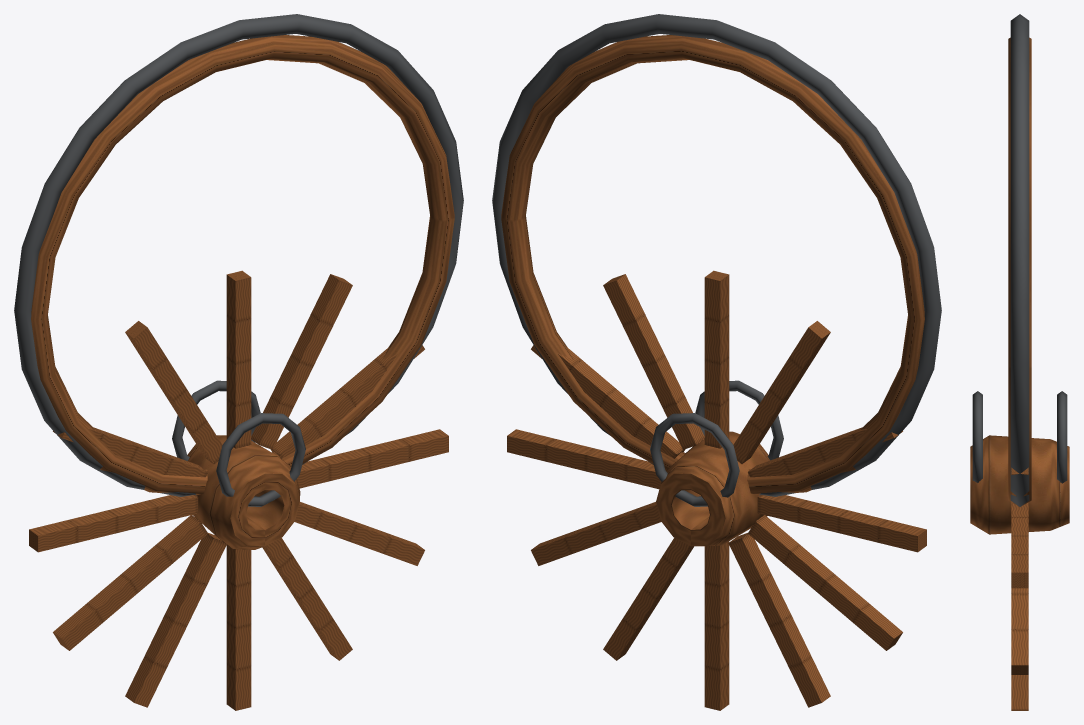
File: wheel.glb
The picture shows the model from 3 angles, left to right: view 1: azimuth 30°, elevation 25°; view 2: azimuth 150°, elevation 25°; view 3: azimuth 270°, elevation 25°; orthographic projection. The views are drawn at different scales.
Parts seen in each view (by area): view 1: wagon-wheel; view 2: wagon-wheel; view 3: wagon-wheel.
Boxes of the visible parts, <box> form: wagon-wheel: <box>14,14,463,710</box>; wagon-wheel: <box>492,14,941,710</box>; wagon-wheel: <box>970,14,1069,710</box>.
Bounding box in the file's own units: 1.29 × 1.88 × 0.26.
Materials: 2 (1 with a texture image).
